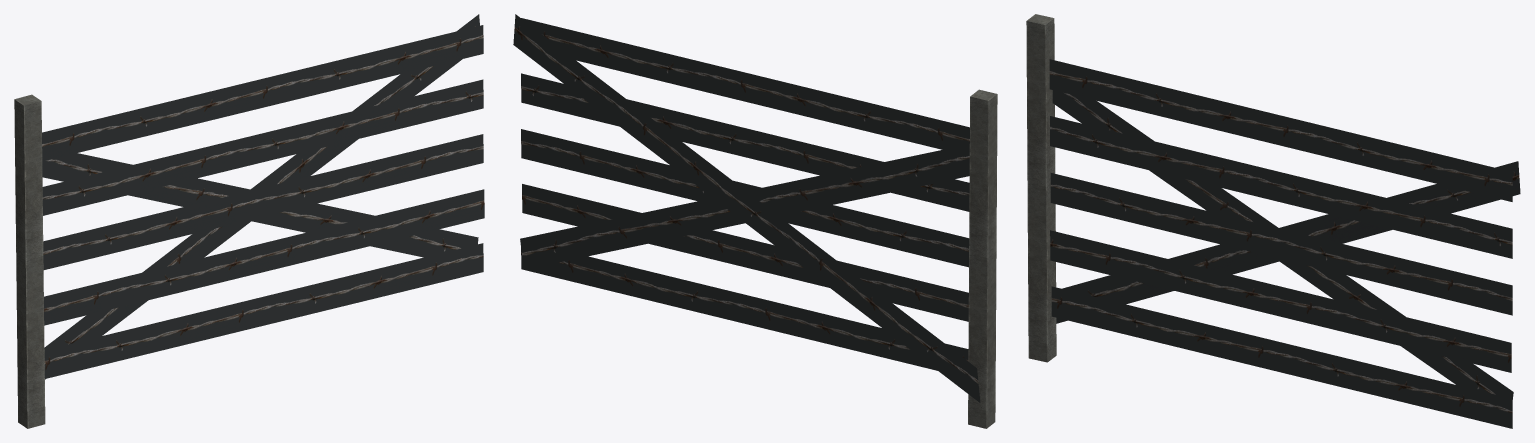
Rendered from fence_01.FBX.
3 views of the same model, side by side, from view 1: azimuth 30°, elevation 25°; view 2: azimuth 150°, elevation 25°; view 3: azimuth 330°, elevation 25° (orthographic). The views are drawn at different scales.
Parts seen in each view (by area): view 1: fence_01_01; view 2: fence_01_01; view 3: fence_01_01.
Part boxes in pixels (<box>): fence_01_01: <box>14,14,484,428</box>; fence_01_01: <box>513,14,997,428</box>; fence_01_01: <box>1026,14,1520,428</box>.
Bounding box in the file's own units: 305 × 11.59 × 202.
